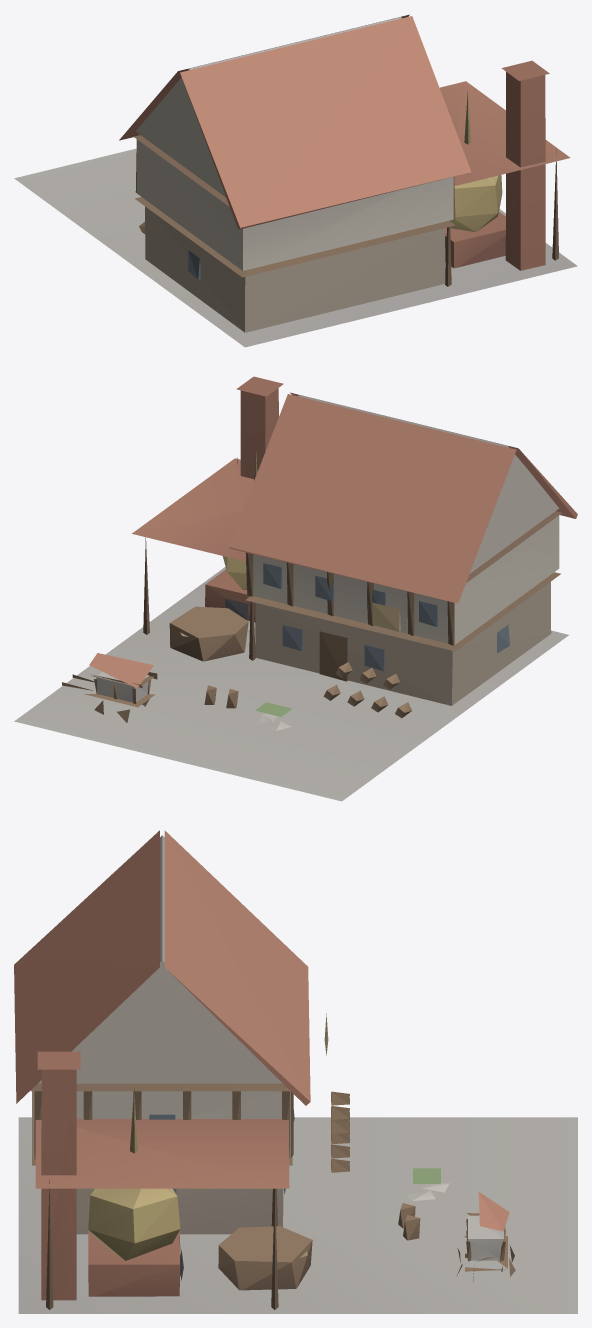
File: brewery.lite.glb
3 views of the same model, one above another, from view 1: azimuth 30°, elevation 25°; view 2: azimuth 150°, elevation 25°; view 3: azimuth 270°, elevation 25° (orthographic). The views are drawn at different scales.
Visible parts, largest first — view 1: brewery; view 2: brewery; view 3: brewery.
Boxes of the visible parts, x1,y1,x2,y2 form: brewery: [14, 14, 577, 347]; brewery: [14, 376, 577, 801]; brewery: [14, 830, 577, 1313].
Size of the model in its own units: 5.06 by 3.36 by 6.01.
